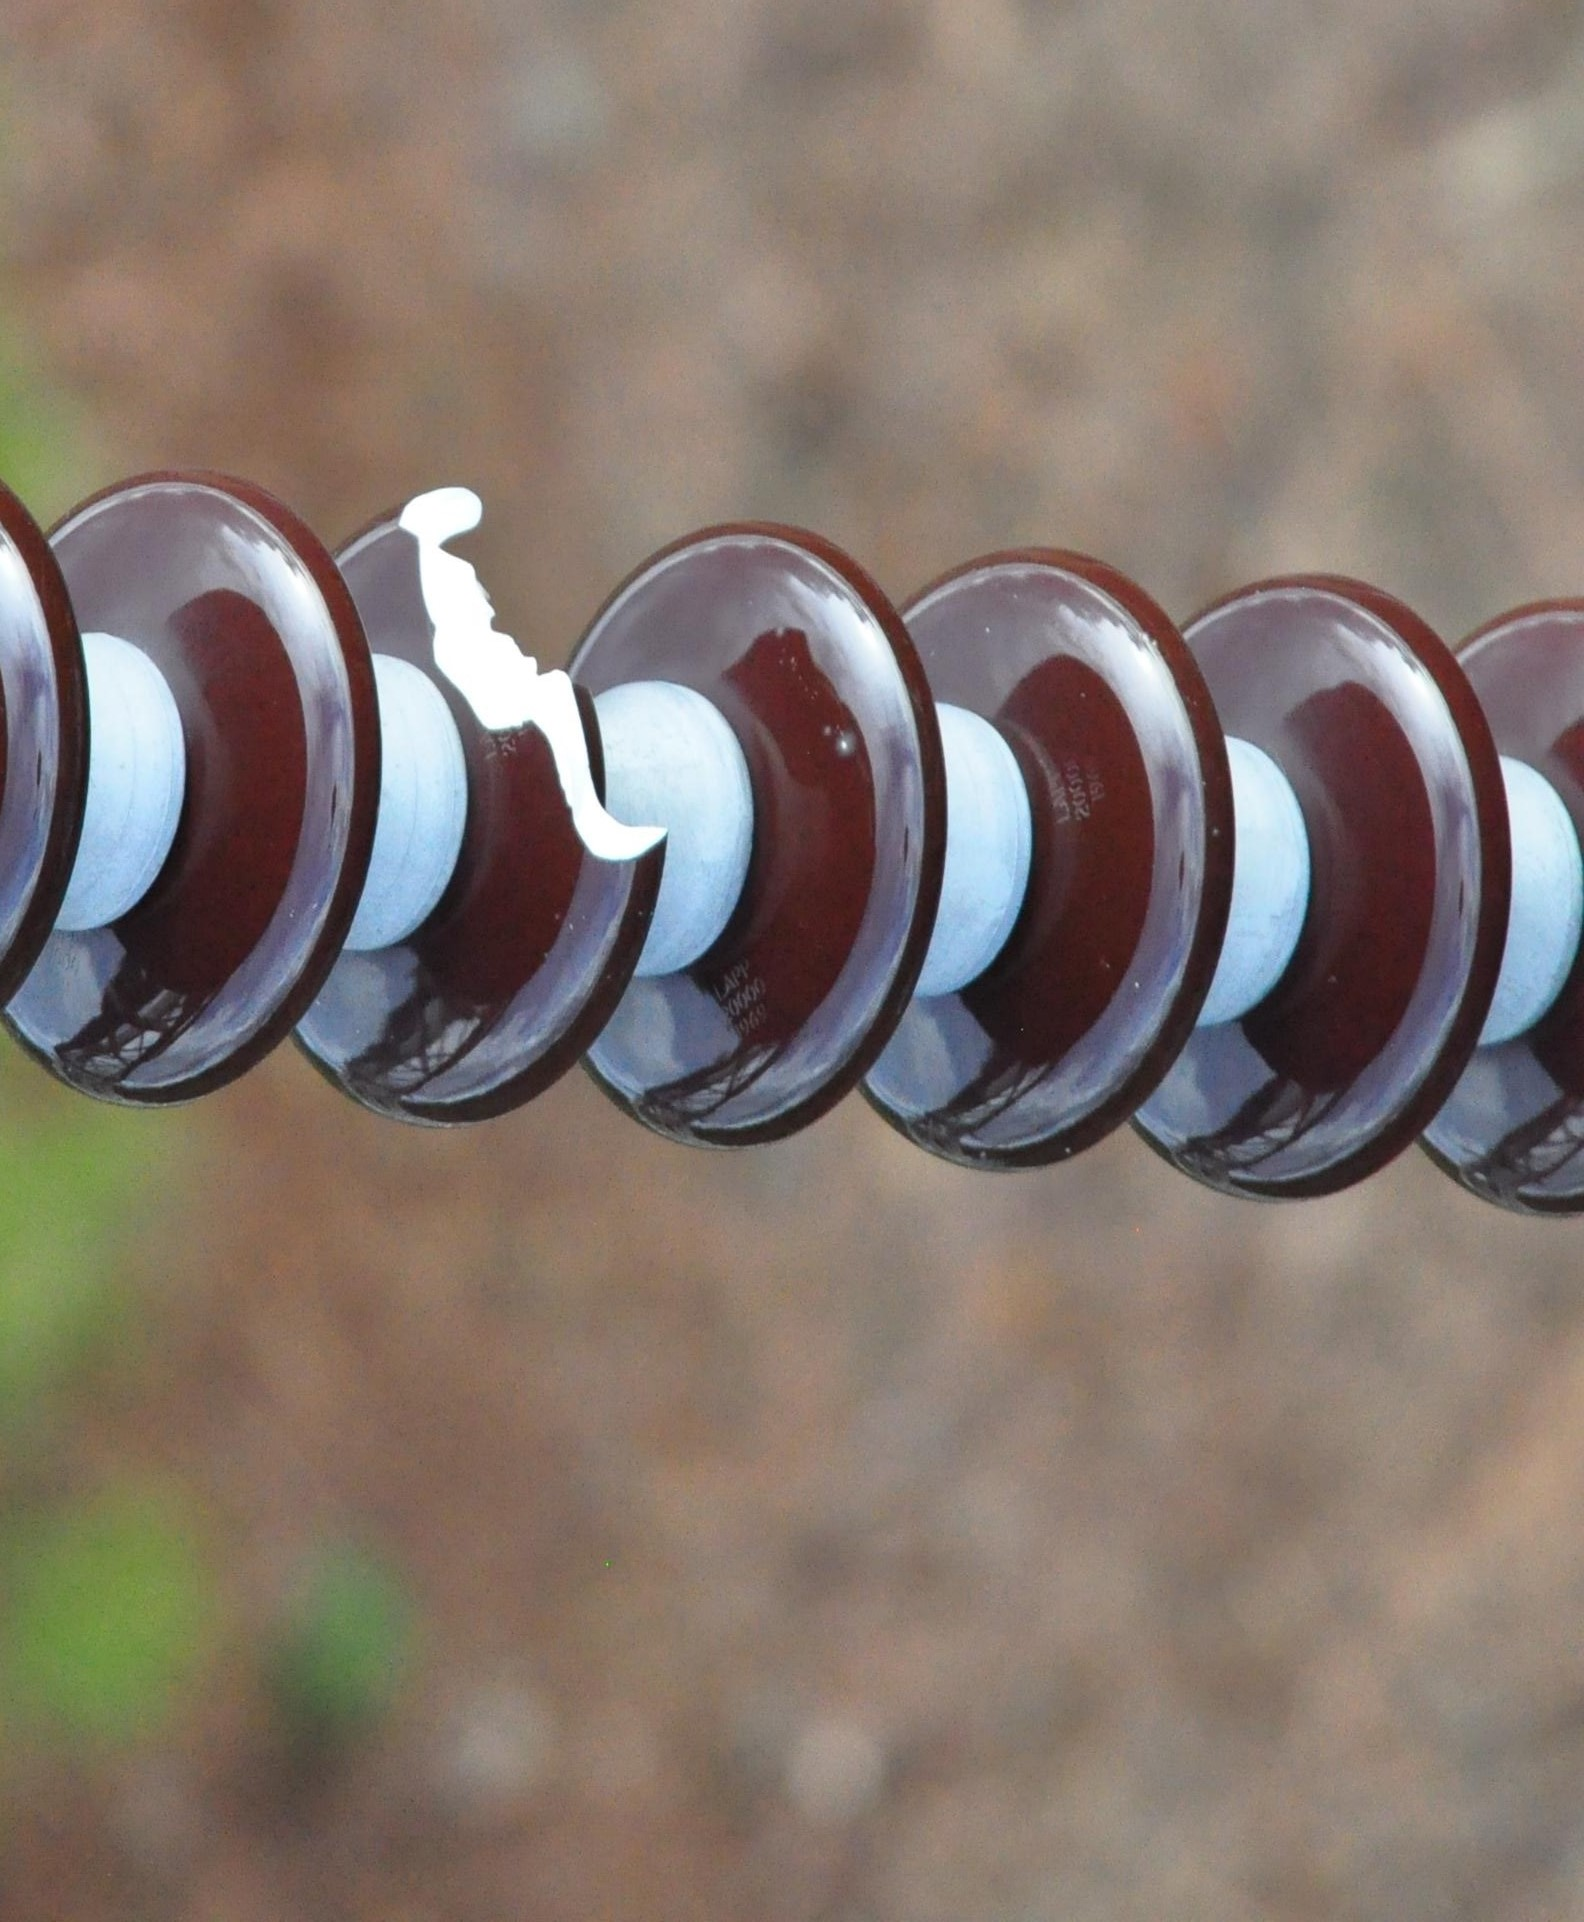insulator breakage: (267, 473, 666, 1146)
